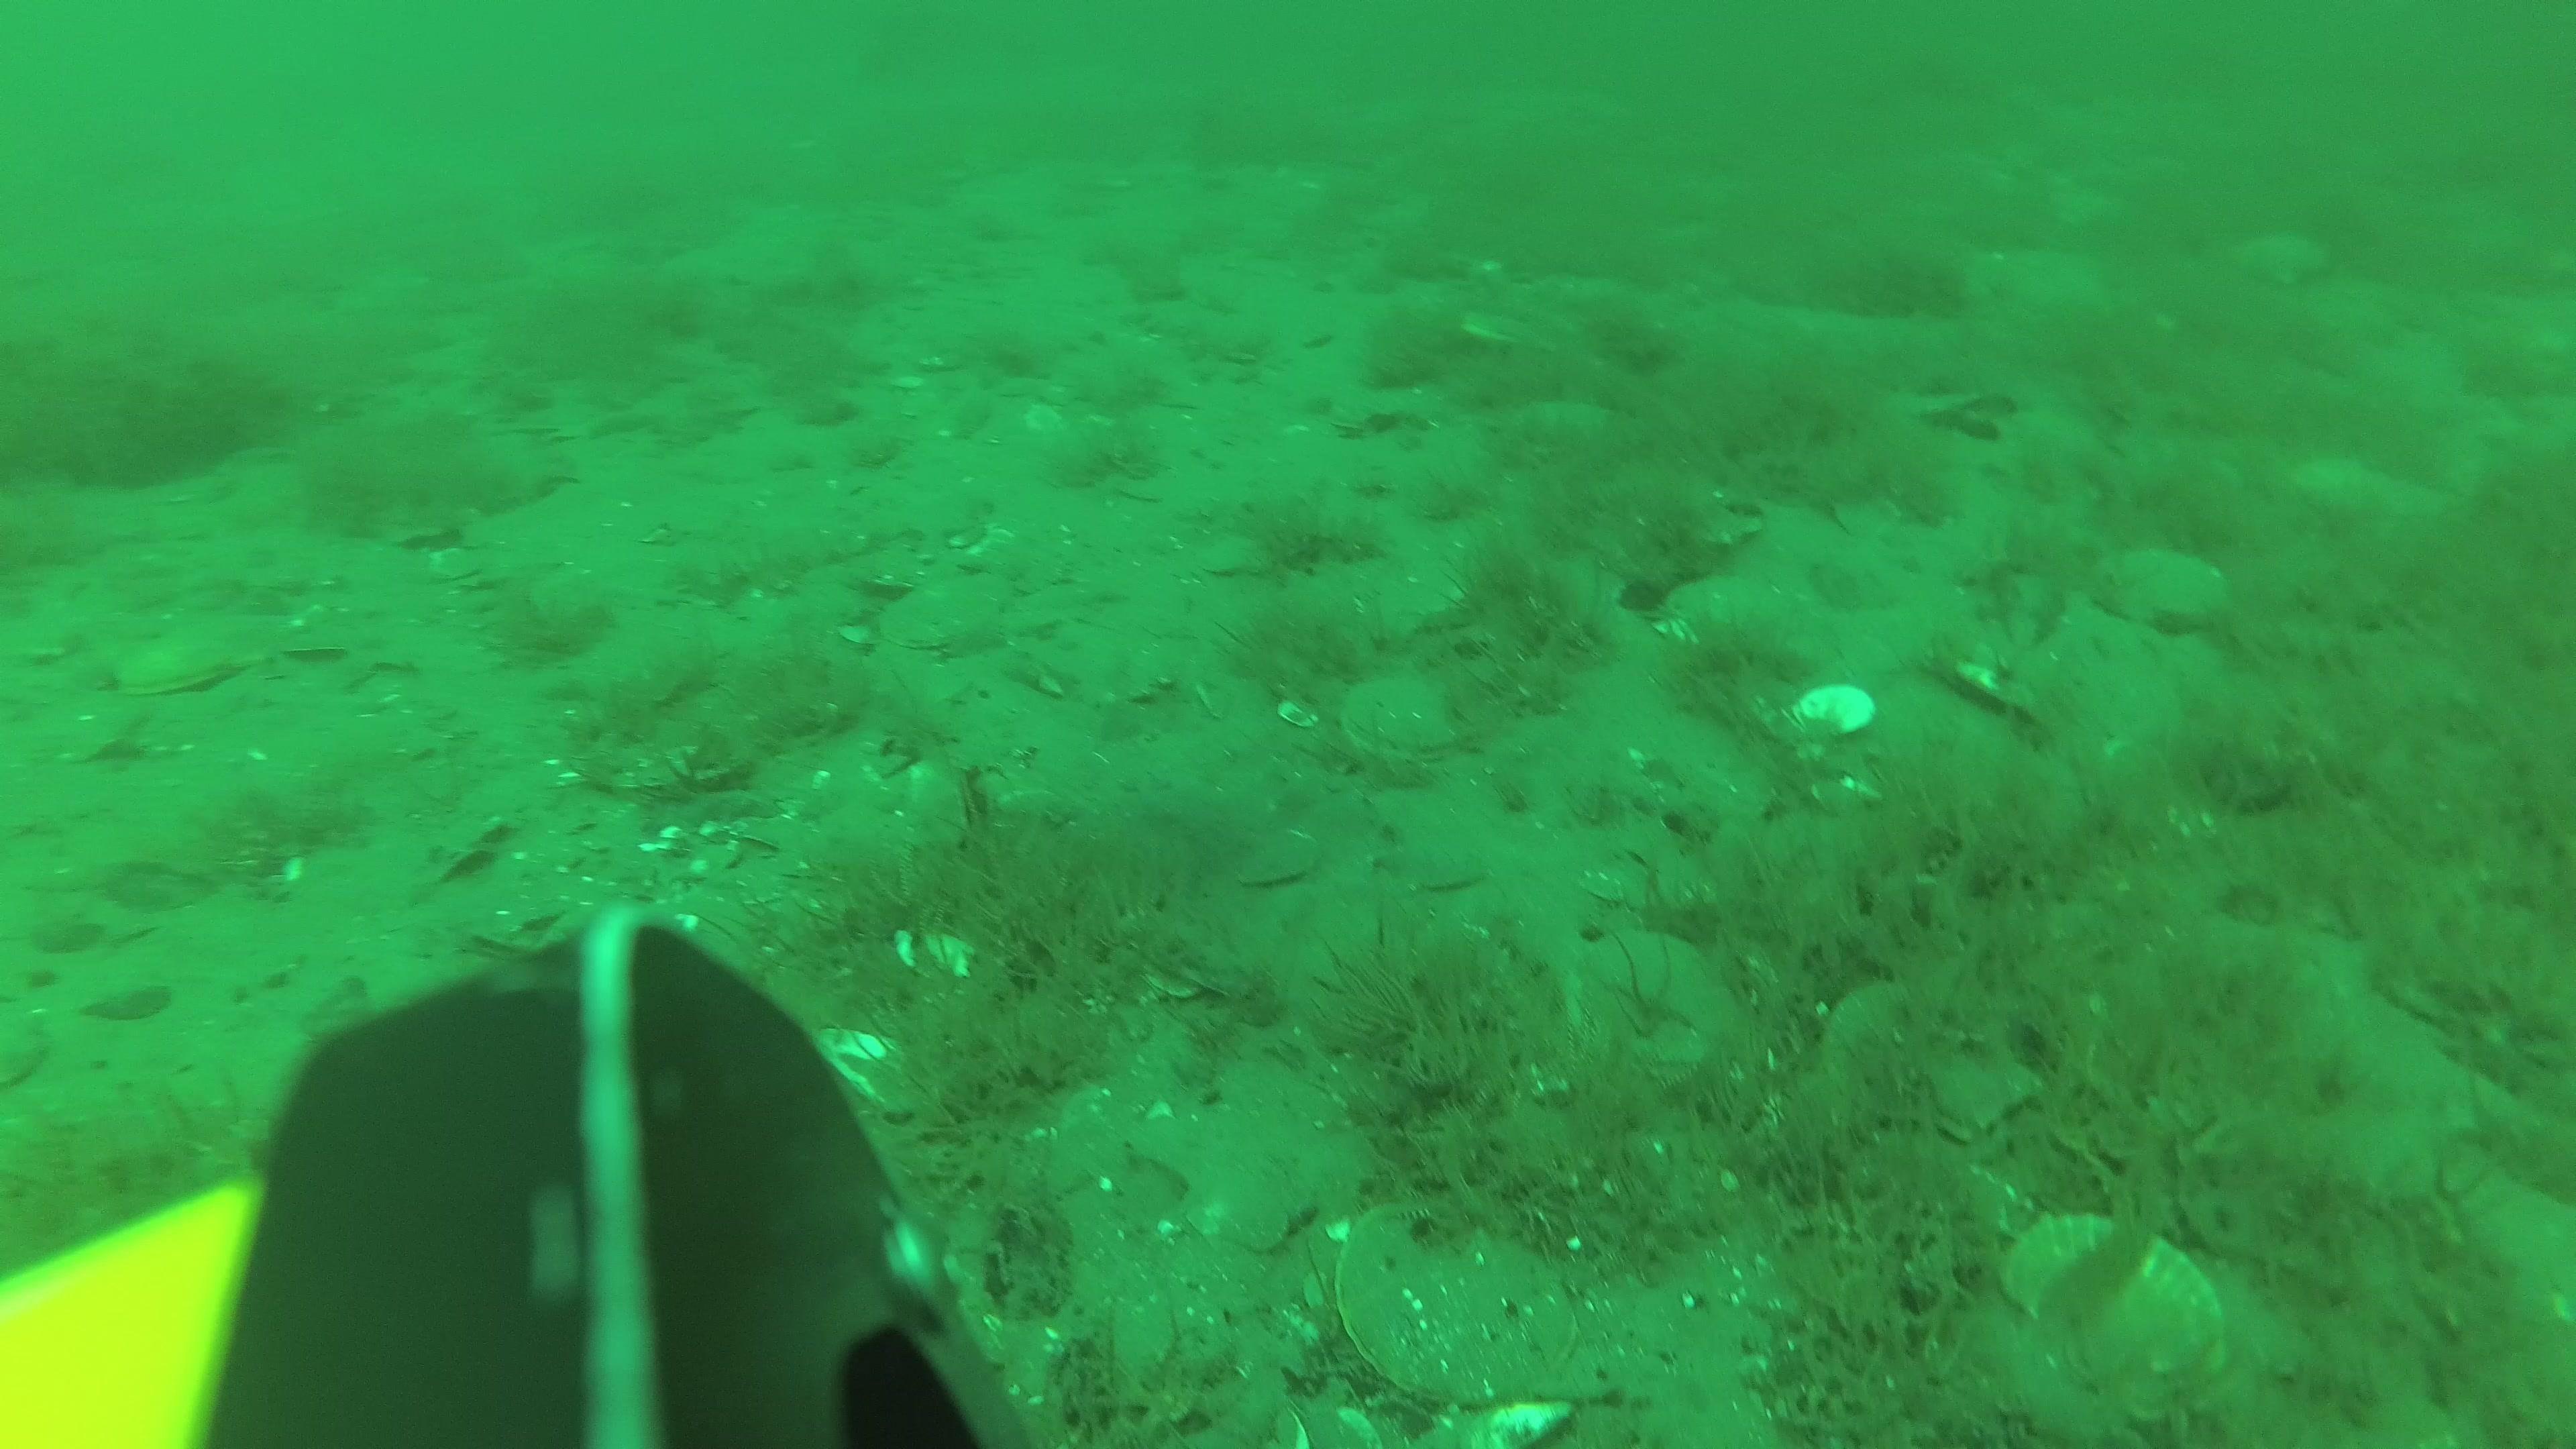scallop: (1327, 1196, 1585, 1410), (1999, 1203, 2240, 1408), (1817, 975, 2049, 1154), (1587, 465, 1775, 554), (1582, 821, 1732, 915), (2102, 540, 2243, 637), (1652, 575, 1803, 660), (1339, 671, 1468, 766), (869, 571, 1010, 658), (111, 621, 255, 699), (2229, 218, 2327, 297), (1787, 671, 1890, 743), (1223, 819, 1316, 895), (1801, 541, 1898, 614), (1194, 524, 1297, 589), (1394, 837, 1493, 885)
